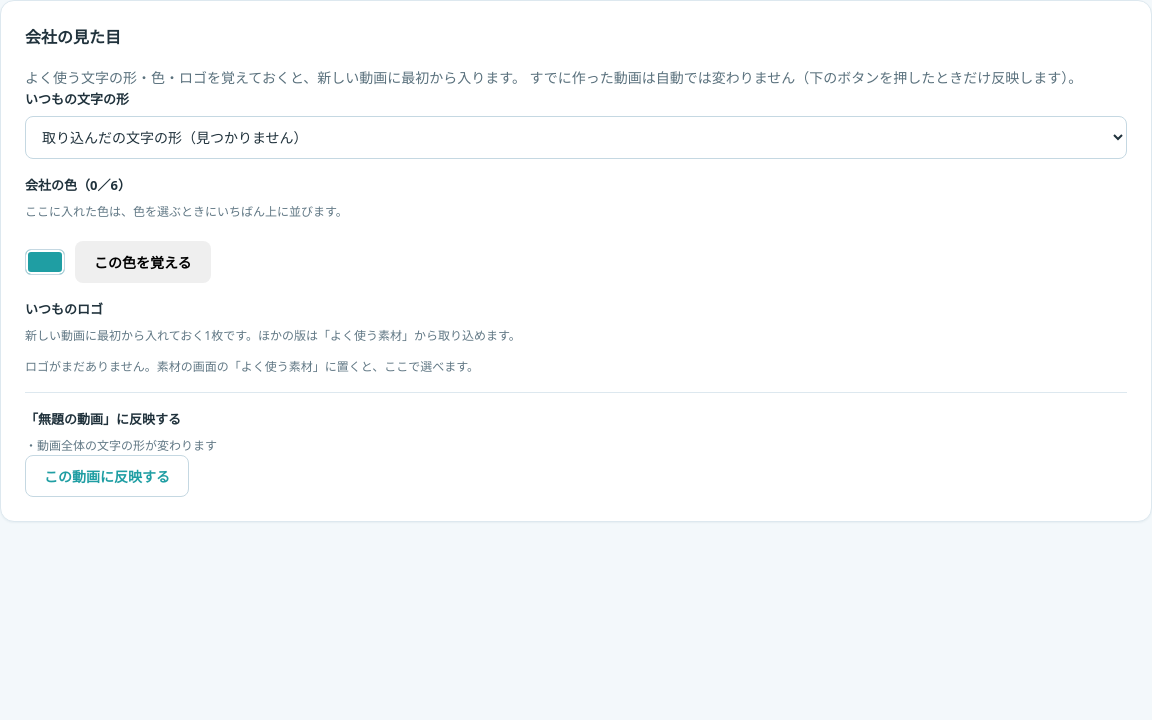
Scenario: BrandKitSection › 覚えている字体が手元に無いときは、入らなかったことを言う
Click the button "この動画に反映する" at (107, 476), box [25,455,189,497]
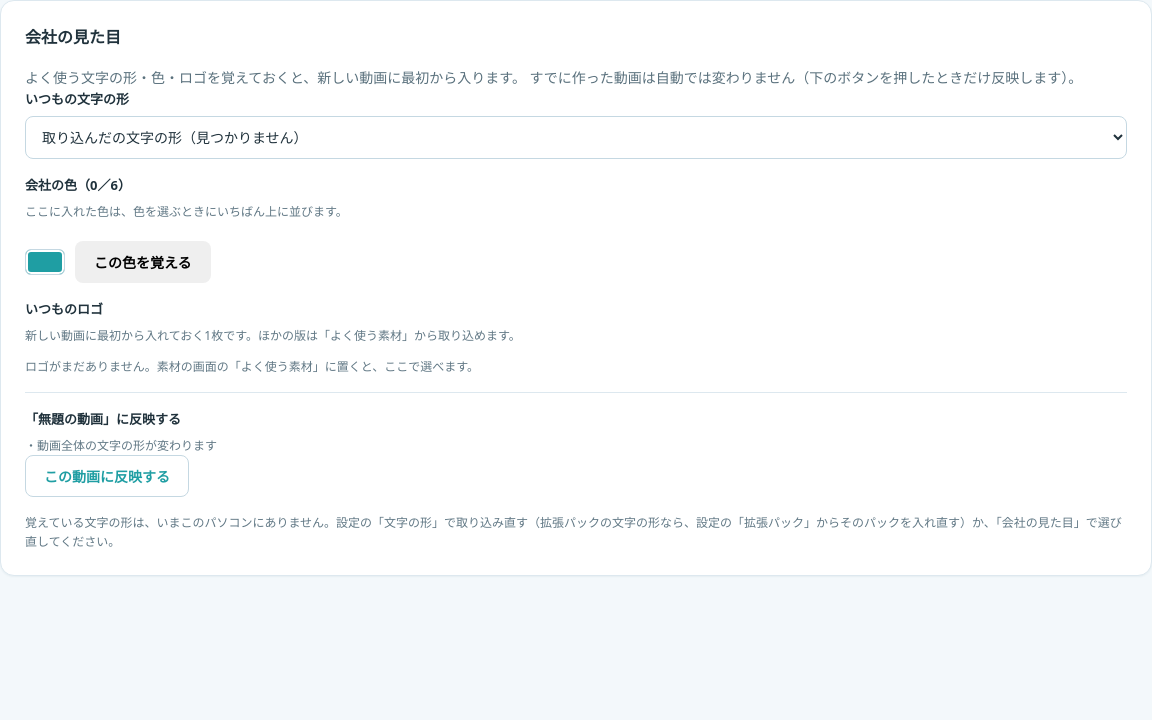
Result: the text "いまこのパソコンにありません" is shown at [25,514,1122,550]
